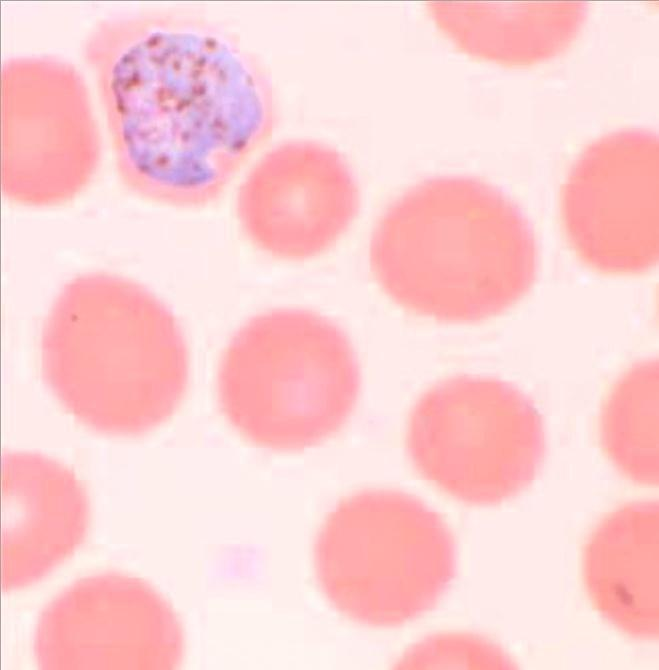Infected: (84, 12, 274, 214)
Uninfected: (373, 176, 540, 319), (46, 275, 188, 436), (309, 485, 454, 622), (223, 310, 361, 453), (409, 379, 547, 504), (0, 58, 105, 210), (239, 139, 357, 262), (36, 573, 178, 670)
